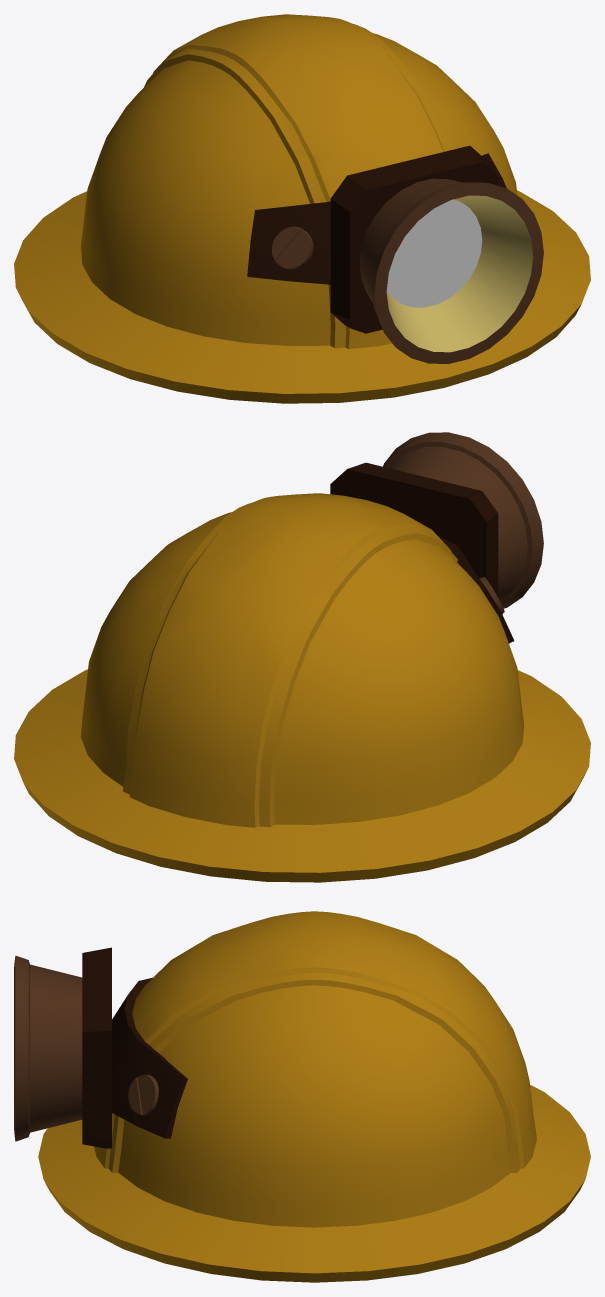
The model's file is MinerHat.fbx.
3 views of the same model, one above another, from view 1: azimuth 30°, elevation 25°; view 2: azimuth 150°, elevation 25°; view 3: azimuth 270°, elevation 25° (orthographic). The views are drawn at different scales.
Parts seen in each view (by area): view 1: MinerHat; view 2: MinerHat; view 3: MinerHat.
Part boxes in pixels (<box>): MinerHat: <box>14,14,590,403</box>; MinerHat: <box>14,432,590,882</box>; MinerHat: <box>14,911,590,1282</box>.
Bounding box in the file's own units: 81.31 × 38.74 × 84.98.
